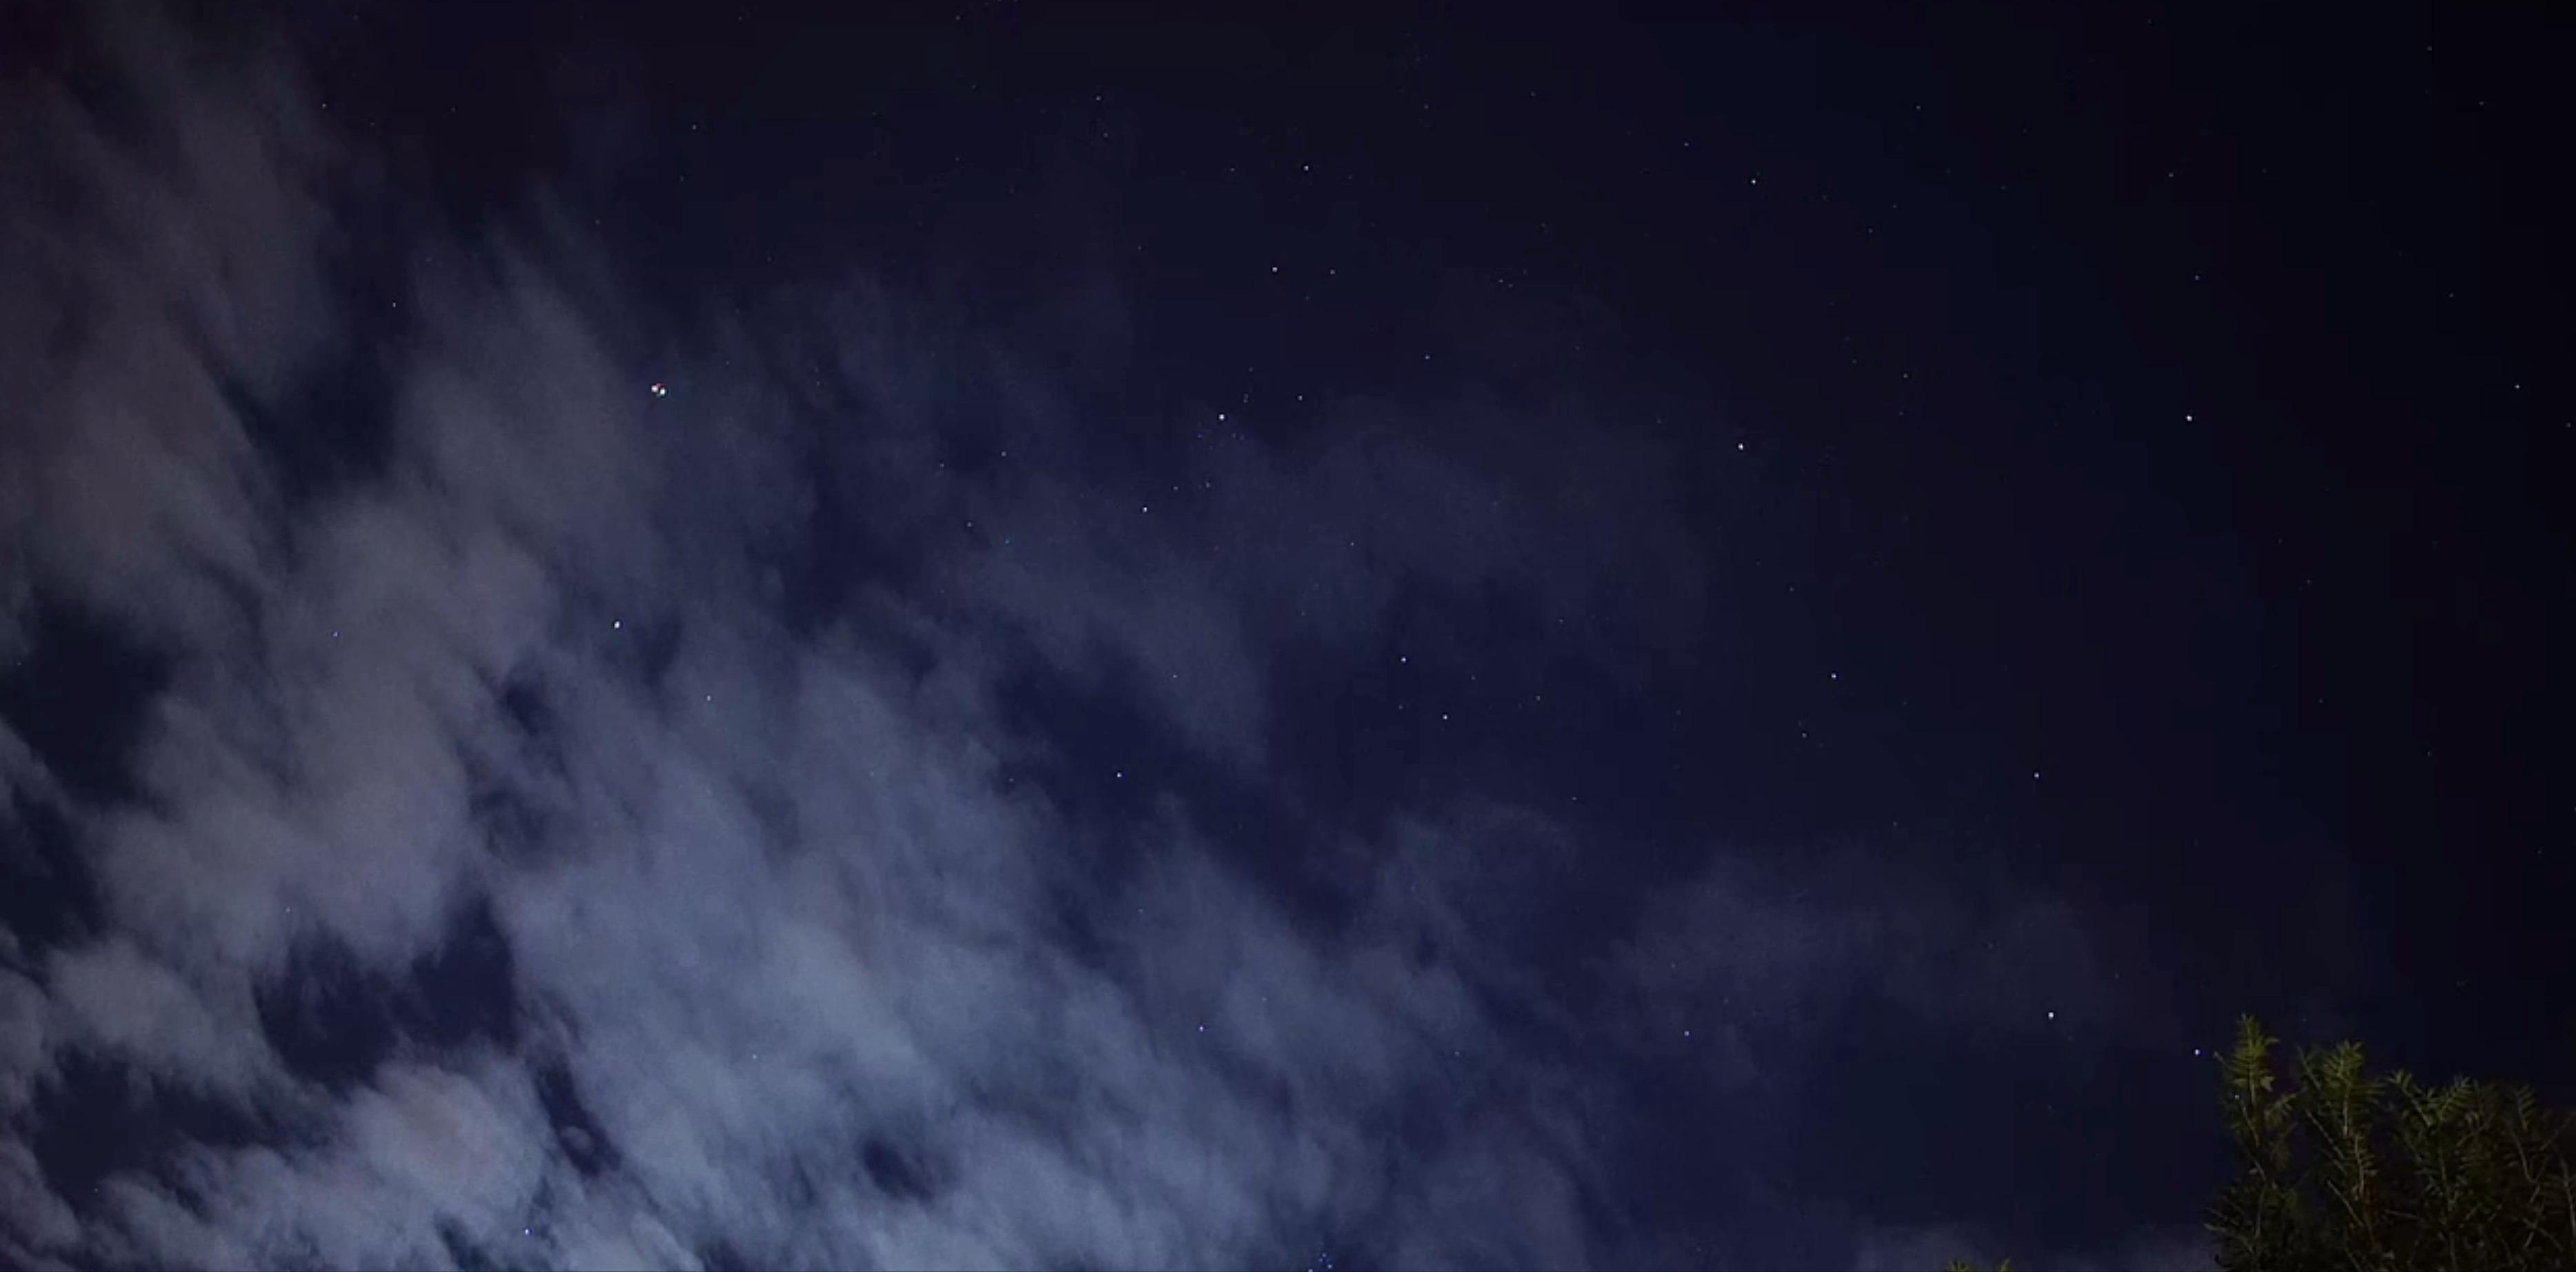Plane: (644, 376, 682, 404)
